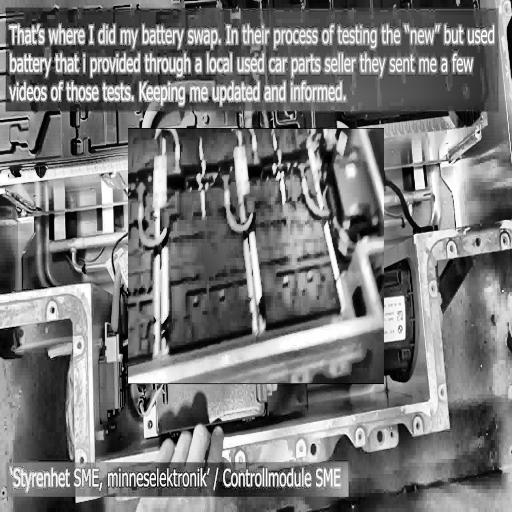high_volt_cable: (298, 169, 358, 262), (134, 178, 170, 254), (219, 180, 257, 240), (105, 252, 130, 342), (151, 126, 182, 164), (231, 126, 261, 160)
